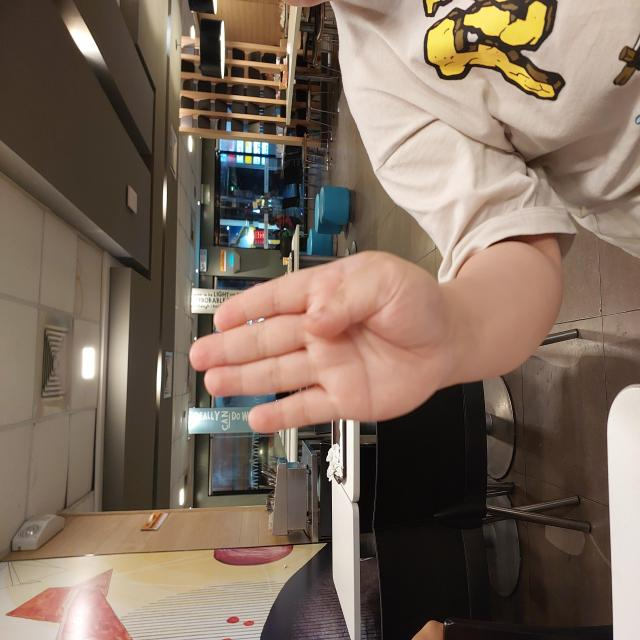B: (205, 188, 392, 447)
